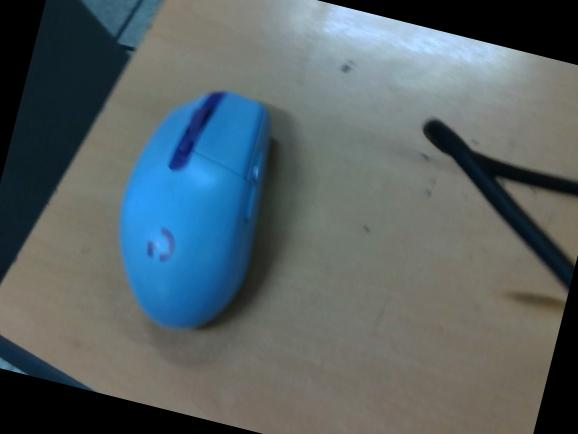mouse: (116, 91, 279, 331)
